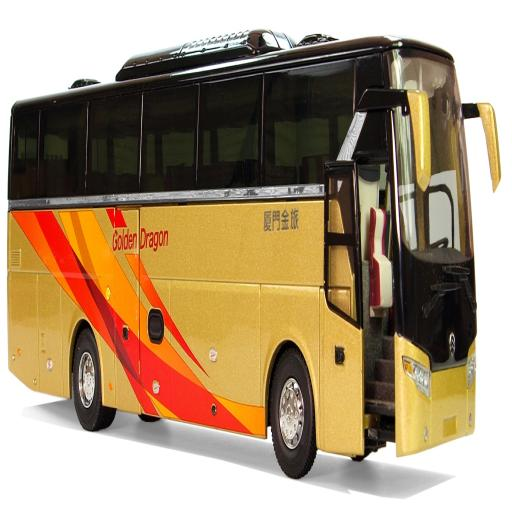bus: (8, 31, 480, 476)
